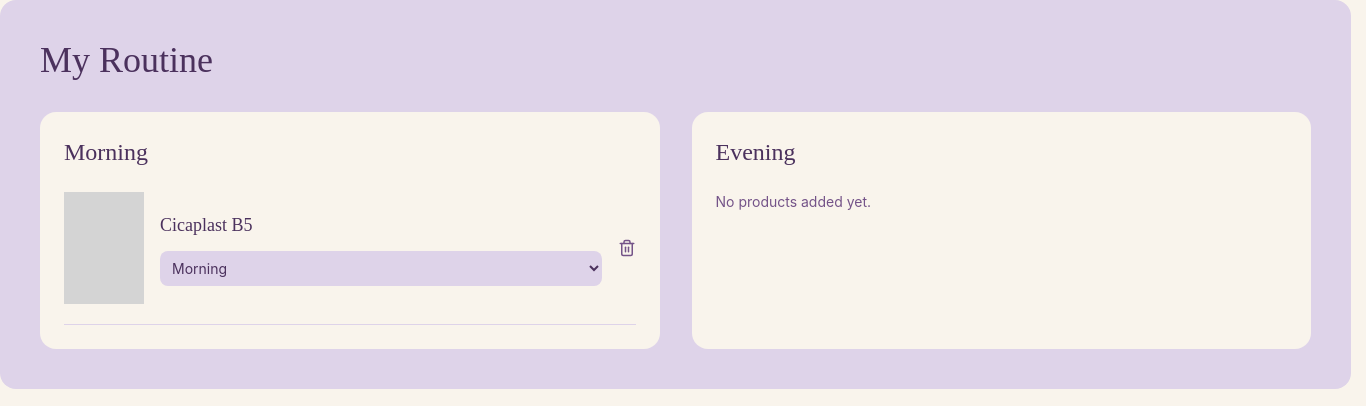
Test: updates a skincare routine
expect the heading "Cicaplast B5" is shown: met, box [160,214,252,234]
Select "Evening" in the dropdown at (381, 268), box [160,250,602,286]
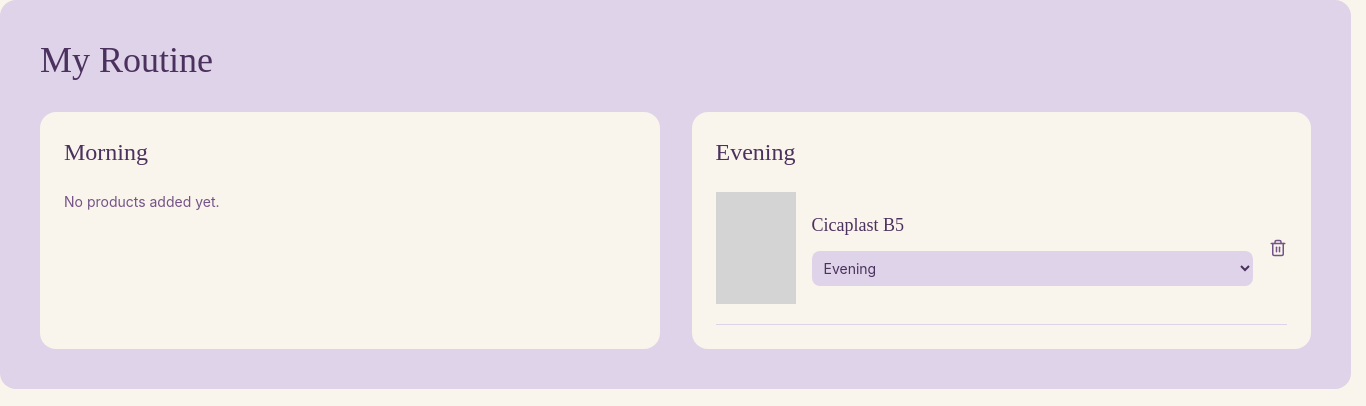
expect the dropdown showing "Evening" is shown: met, box [812,250,1253,286]
